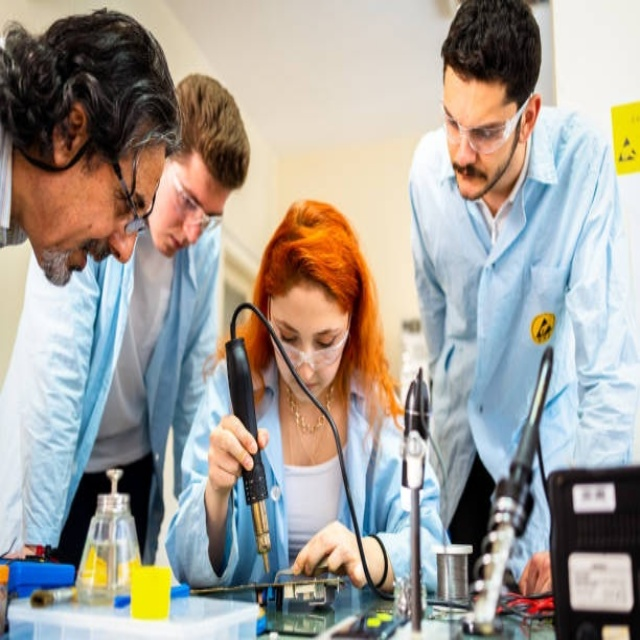Gafas: (440, 88, 536, 158), (269, 309, 351, 370), (167, 155, 224, 234), (115, 158, 150, 240)
Sin_guantes: (292, 511, 368, 588), (206, 409, 271, 489)
Sin_mascara: (45, 224, 108, 287), (450, 157, 487, 204), (153, 224, 186, 264), (287, 369, 323, 405)
